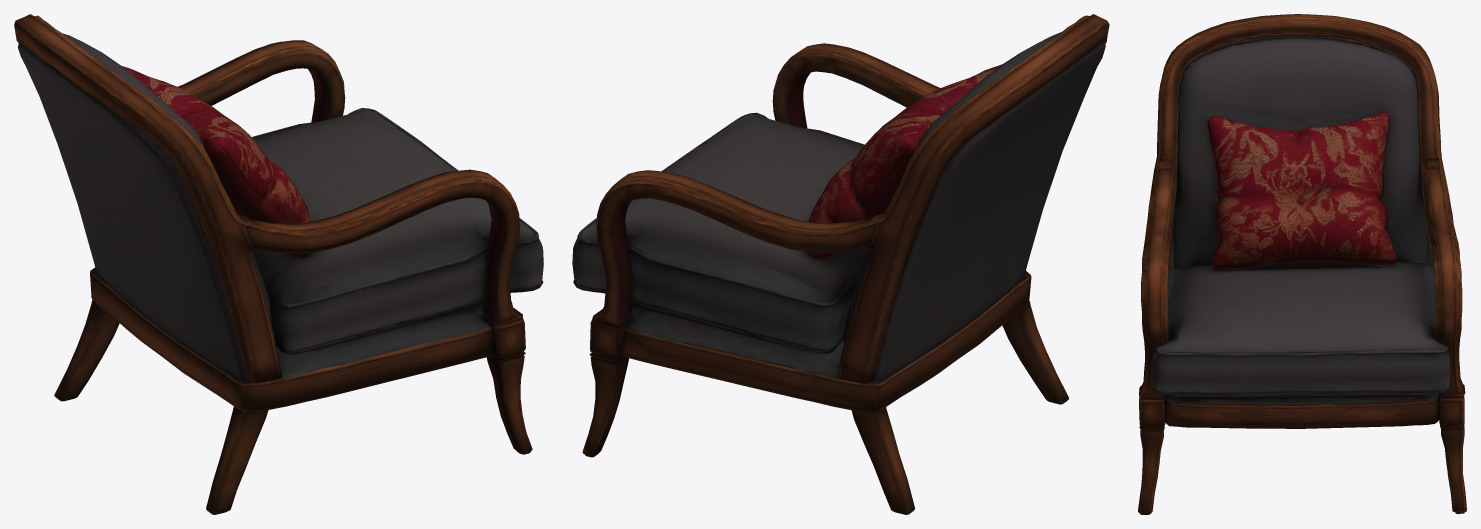
3 views of the same model, side by side, from view 1: azimuth 30°, elevation 25°; view 2: azimuth 150°, elevation 25°; view 3: azimuth 270°, elevation 25° (orthographic). The views are drawn at different scales.
Parts seen in each view (by area): view 1: tripo_node_0da2ad79-a8fa-485b-84ad-0d1d33b97c95; view 2: tripo_node_0da2ad79-a8fa-485b-84ad-0d1d33b97c95; view 3: tripo_node_0da2ad79-a8fa-485b-84ad-0d1d33b97c95.
Part boxes in pixels (x1,y1,x2,y2): tripo_node_0da2ad79-a8fa-485b-84ad-0d1d33b97c95: (14,14,543,514); tripo_node_0da2ad79-a8fa-485b-84ad-0d1d33b97c95: (572,14,1109,514); tripo_node_0da2ad79-a8fa-485b-84ad-0d1d33b97c95: (1138,14,1466,514).
Size of the model in its own units: 0.998 by 0.998 by 0.8457.
Materials: 1 (1 with a texture image).
